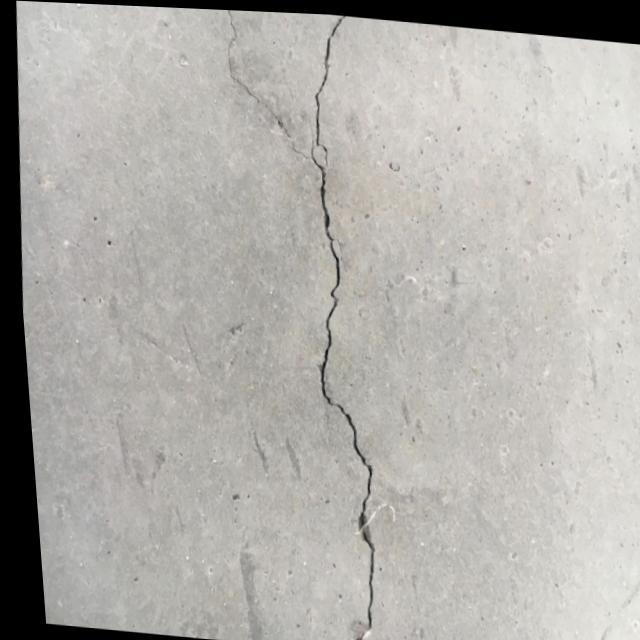Crack: (284, 10, 379, 398), (293, 394, 389, 640), (186, 6, 313, 180)
